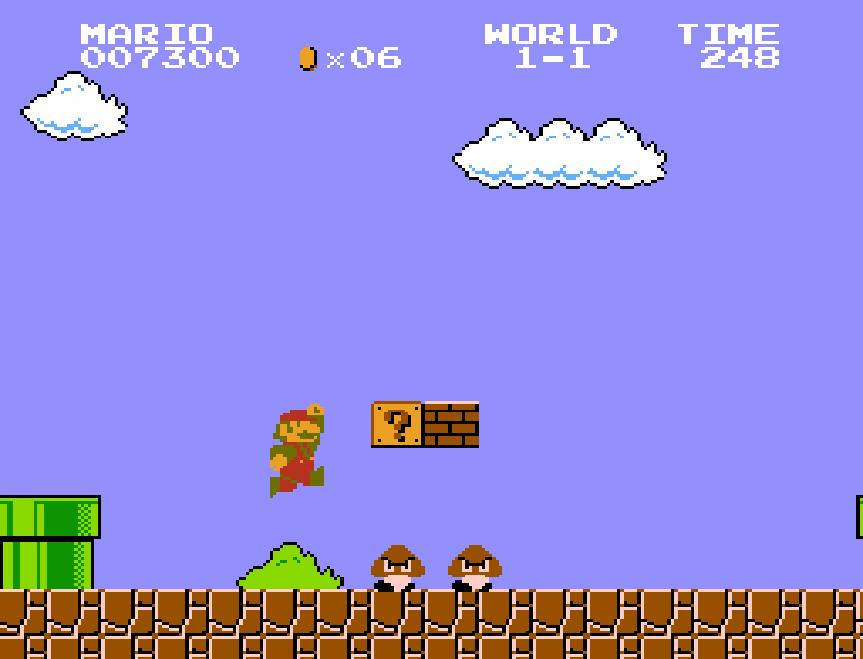big_mario: (267, 402, 325, 500)
